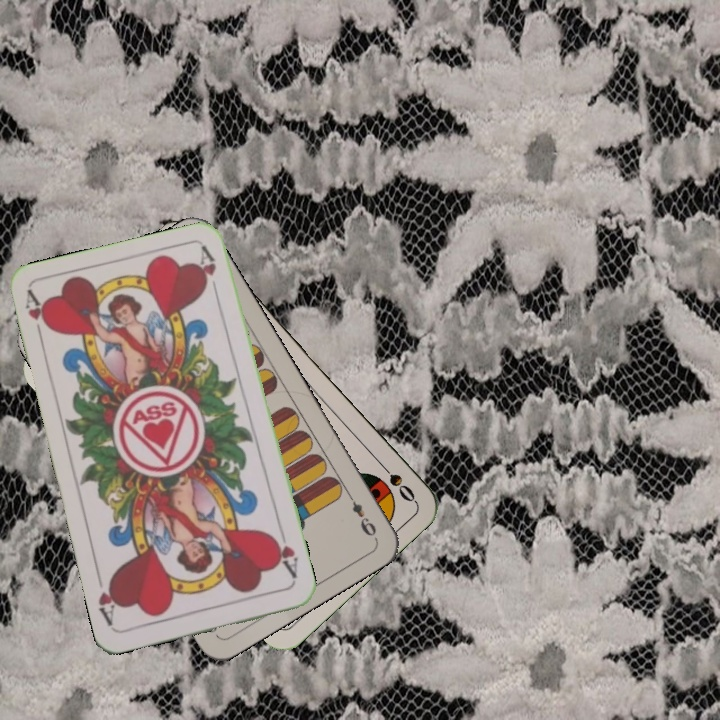E9: (343, 488, 379, 541)
HA: (20, 288, 54, 347), (268, 526, 301, 584)
SO: (373, 456, 418, 505)
